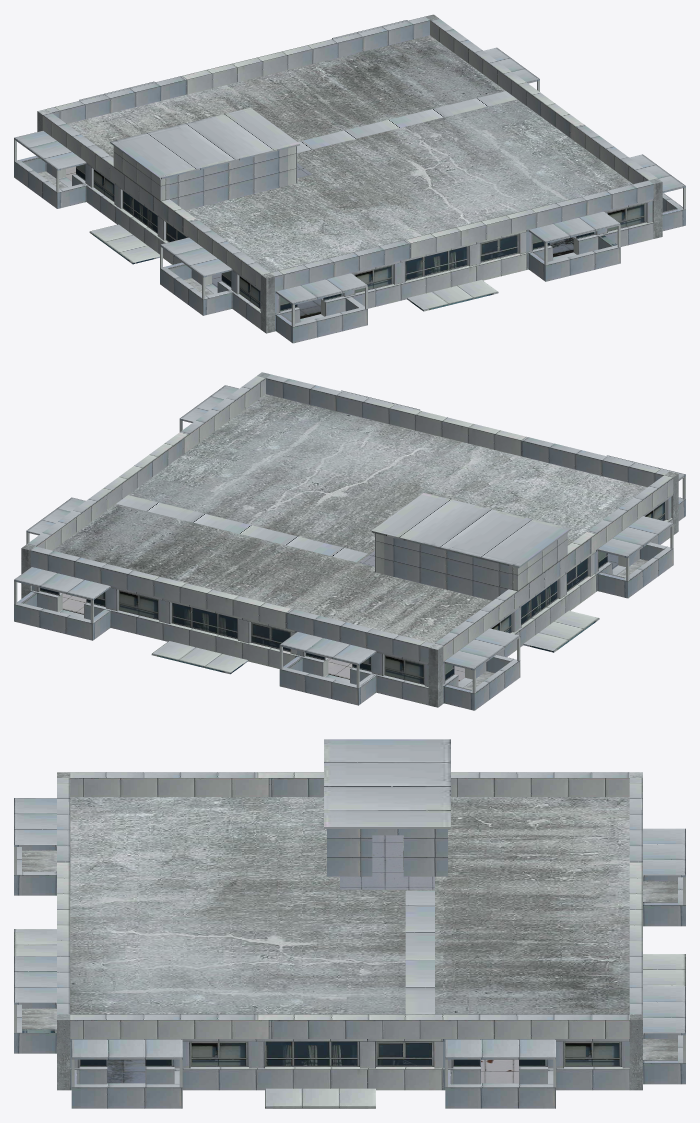
Rendered from BagSS06top_high.fbx.
The picture shows the model from 3 angles, top to bottom: view 1: azimuth 30°, elevation 25°; view 2: azimuth 150°, elevation 25°; view 3: azimuth 270°, elevation 25°; orthographic projection. The views are drawn at different scales.
Visible parts, largest first — view 1: topMain700, topRoofAA700, topshedRoof700, topRoof700, topBeamCrete700, topFloors700; view 2: topMain700, topRoofAA700, topshedRoof700, topRoof700, topBeamCrete700, topFloors700; view 3: topRoofAA700, topMain700, topshedRoof700, topBeamCrete700, topRoof700, topRoofA700, topFloors700.
Boxes of the visible parts, box(x1,y1,x2,y2) form: topMain700: box(14, 16, 685, 343); topRoofAA700: box(67, 35, 632, 272); topshedRoof700: box(110, 107, 299, 179); topRoof700: box(297, 91, 516, 152); topBeamCrete700: box(37, 14, 662, 333); topFloors700: box(66, 166, 575, 318); topMain700: box(14, 374, 685, 710); topRoofAA700: box(52, 394, 647, 643); topshedRoof700: box(371, 492, 570, 568); topRoof700: box(116, 495, 367, 562); topBeamCrete700: box(21, 372, 678, 707); topFloors700: box(60, 553, 618, 681); topRoofAA700: box(70, 797, 629, 1014); topMain700: box(14, 772, 685, 1108); topshedRoof700: box(324, 739, 450, 828); topBeamCrete700: box(22, 772, 677, 1090); topRoof700: box(405, 890, 434, 1014); topRoofA700: box(340, 835, 434, 889); topFloors700: box(107, 1059, 518, 1083).
Bounding box in the file's own units: 46.05 × 7.71 × 46.05.
